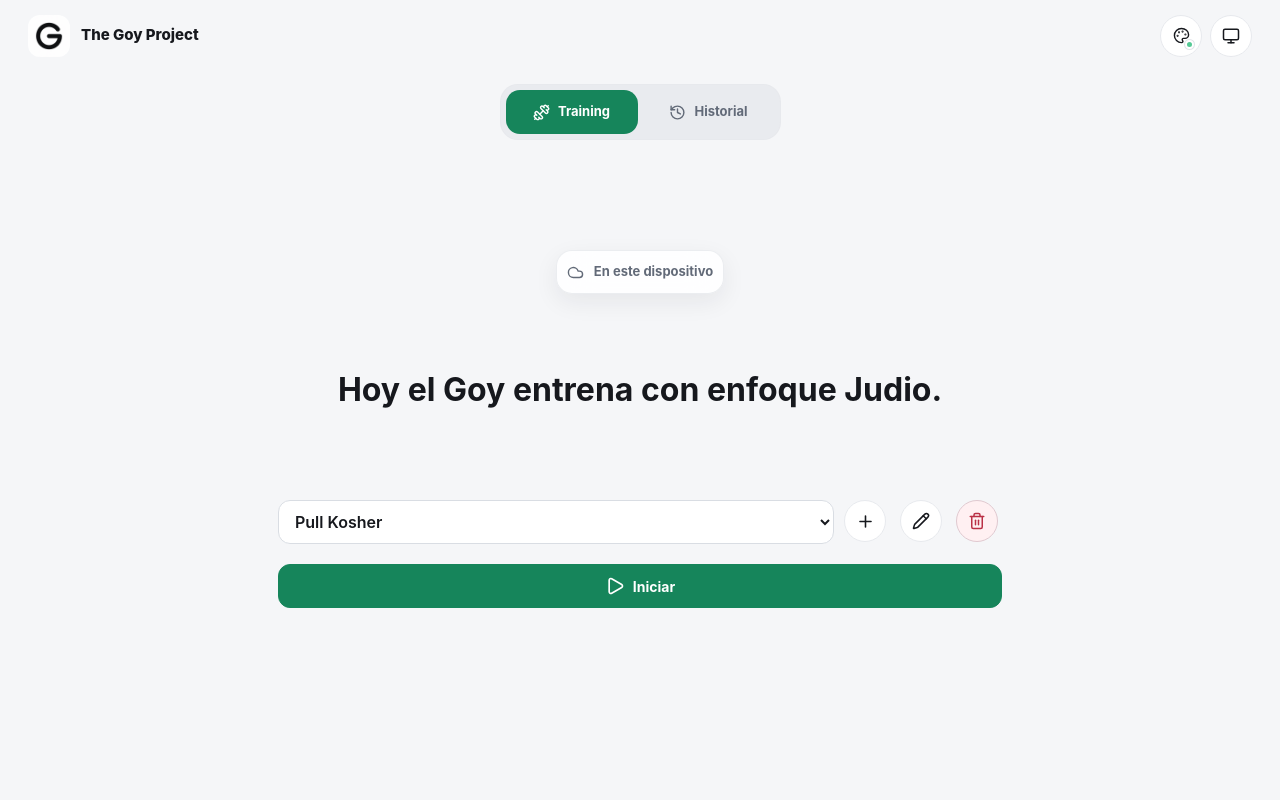
Test: App training and history › does not append cardio when it is disabled for the account
Expected: the dropdown shows "Pull Kosher", [278,500,834,544]
Click the button "Iniciar": {"x": 640, "y": 586} [278,564,1002,608]
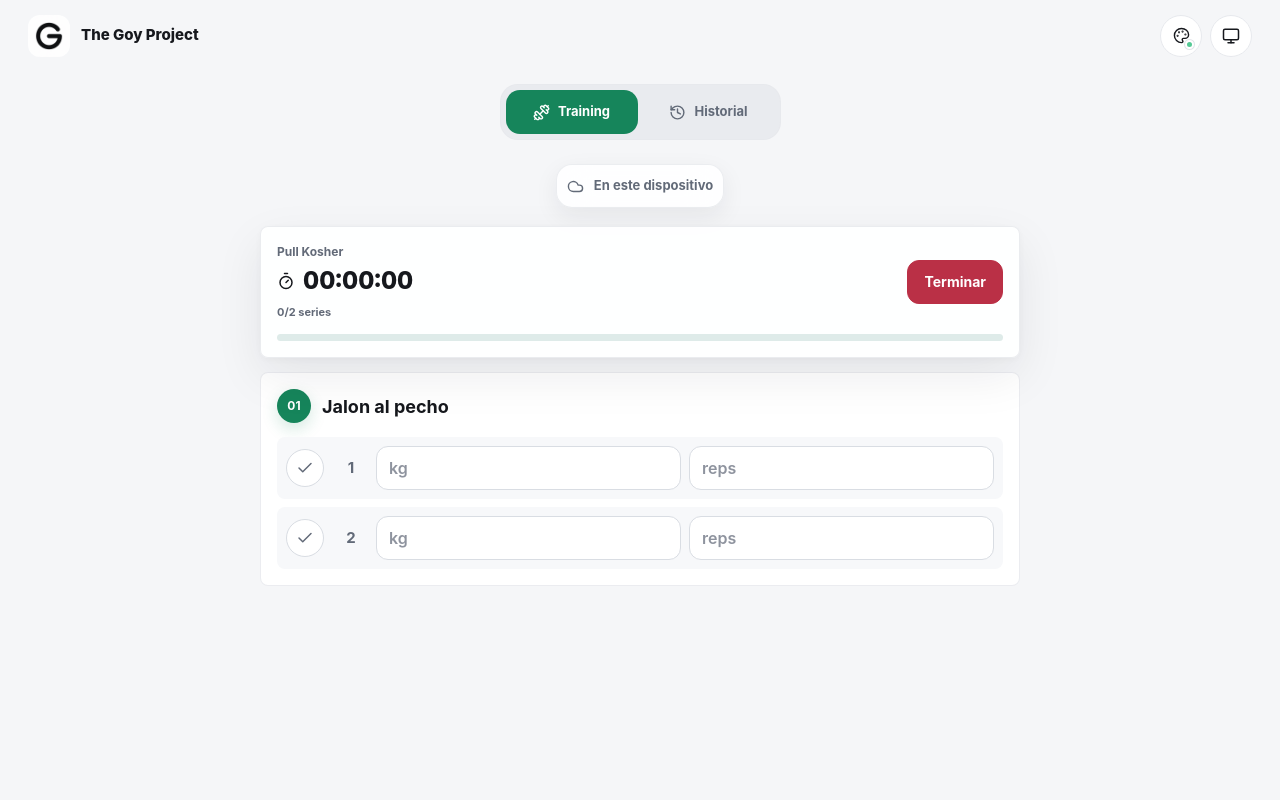
Expected: the heading "Jalon al pecho" is shown, [322,392,449,420]
